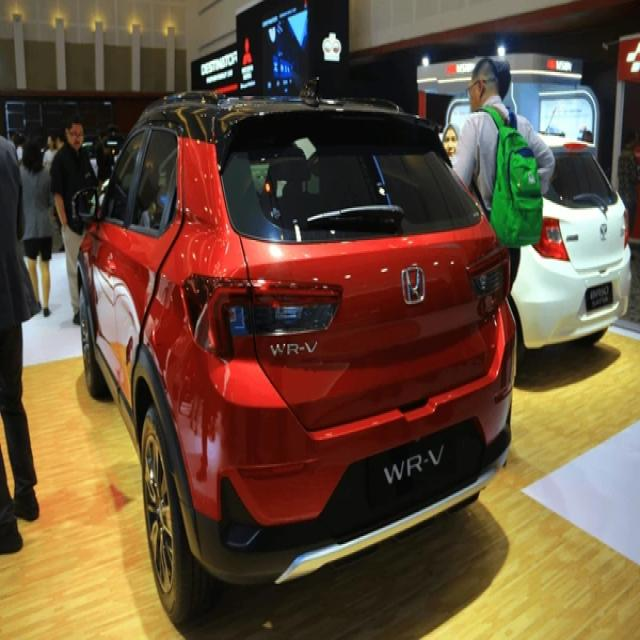honda: (402, 266, 426, 303)
